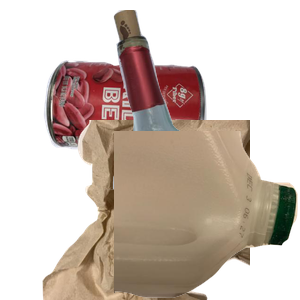glass: (89, 10, 300, 190)
metal: (41, 58, 240, 207)
plastic: (114, 131, 300, 300)
trash: (40, 120, 280, 300)
